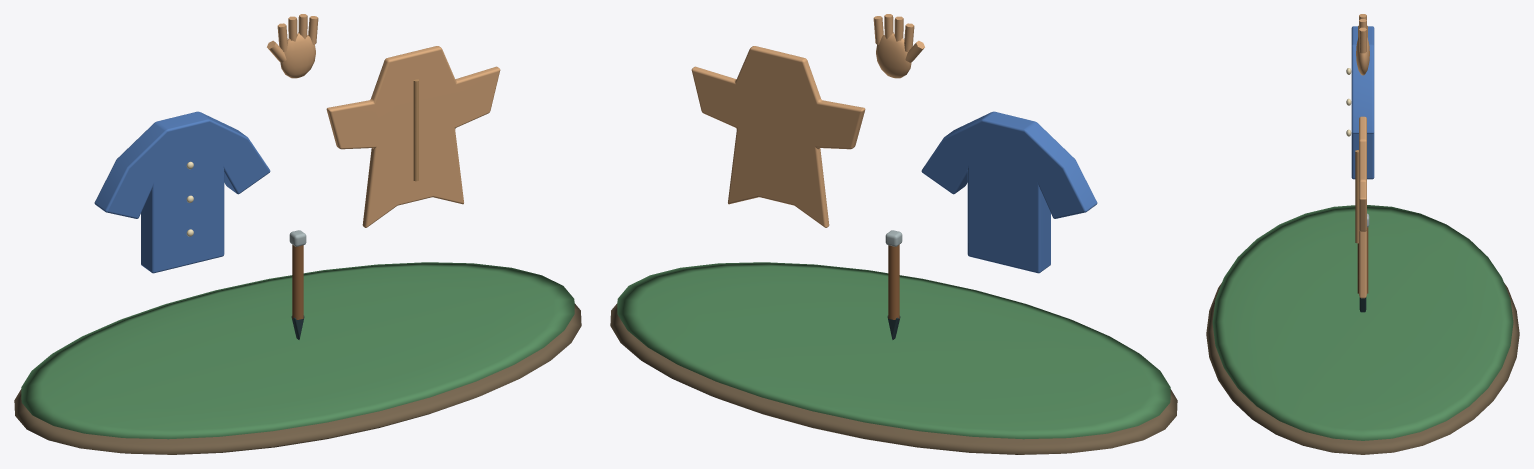
Rendered from complete-first-clothes-receive-action.glb.
3 views of the same model, side by side, from view 1: azimuth 30°, elevation 25°; view 2: azimuth 150°, elevation 25°; view 3: azimuth 270°, elevation 25° (orthographic). The views are drawn at different scales.
Visible parts, largest first — view 1: complete-first-clothes-receive-action_surface_01, complete-first-clothes-receive-action_surface_04, complete-first-clothes-receive-action_surface_02, complete-first-clothes-receive-action_surface_00, complete-first-clothes-receive-action_surface_06, complete-first-clothes-receive-action_surface_05; view 2: complete-first-clothes-receive-action_surface_01, complete-first-clothes-receive-action_surface_04, complete-first-clothes-receive-action_surface_02, complete-first-clothes-receive-action_surface_00, complete-first-clothes-receive-action_surface_06; view 3: complete-first-clothes-receive-action_surface_01, complete-first-clothes-receive-action_surface_00, complete-first-clothes-receive-action_surface_02, complete-first-clothes-receive-action_surface_04, complete-first-clothes-receive-action_surface_05.
Part boxes in pixels (left/top/right/bottom): complete-first-clothes-receive-action_surface_01: left=21, top=262, right=574, bottom=439; complete-first-clothes-receive-action_surface_04: left=267, top=14, right=500, bottom=227; complete-first-clothes-receive-action_surface_02: left=94, top=111, right=270, bottom=273; complete-first-clothes-receive-action_surface_00: left=14, top=303, right=581, bottom=454; complete-first-clothes-receive-action_surface_06: left=292, top=244, right=303, bottom=319; complete-first-clothes-receive-action_surface_05: left=413, top=79, right=418, bottom=181; complete-first-clothes-receive-action_surface_01: left=617, top=262, right=1170, bottom=439; complete-first-clothes-receive-action_surface_04: left=691, top=14, right=924, bottom=227; complete-first-clothes-receive-action_surface_02: left=921, top=111, right=1097, bottom=273; complete-first-clothes-receive-action_surface_00: left=610, top=303, right=1177, bottom=454; complete-first-clothes-receive-action_surface_06: left=888, top=244, right=899, bottom=319; complete-first-clothes-receive-action_surface_01: left=1212, top=205, right=1513, bottom=440; complete-first-clothes-receive-action_surface_00: left=1206, top=283, right=1519, bottom=454; complete-first-clothes-receive-action_surface_02: left=1351, top=26, right=1374, bottom=179; complete-first-clothes-receive-action_surface_04: left=1356, top=14, right=1369, bottom=298; complete-first-clothes-receive-action_surface_05: left=1355, top=150, right=1358, bottom=243.
Bounding box in the file's own units: 4.56 × 2.91 × 2.5.
